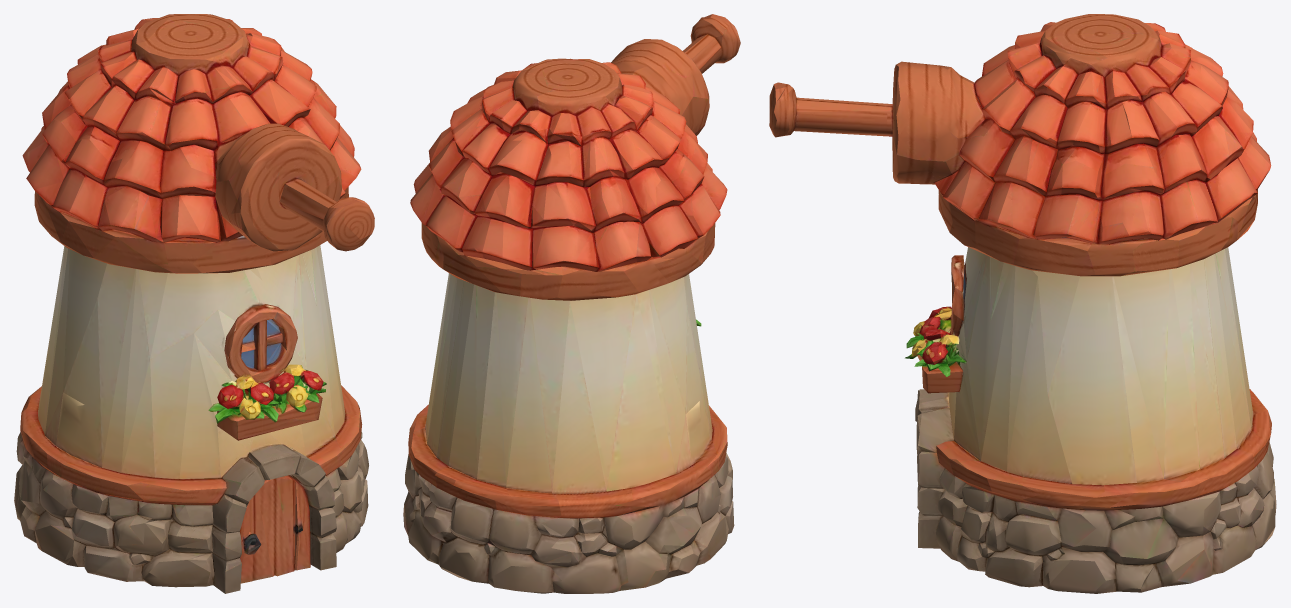
The model's file is windmill.glb.
The picture shows the model from 3 angles, left to right: view 1: azimuth 30°, elevation 25°; view 2: azimuth 150°, elevation 25°; view 3: azimuth 270°, elevation 25°; orthographic projection. The views are drawn at different scales.
Bounding box in the file's own units: 1.26 × 1.9 × 1.79.
1 material, 1 textured.
